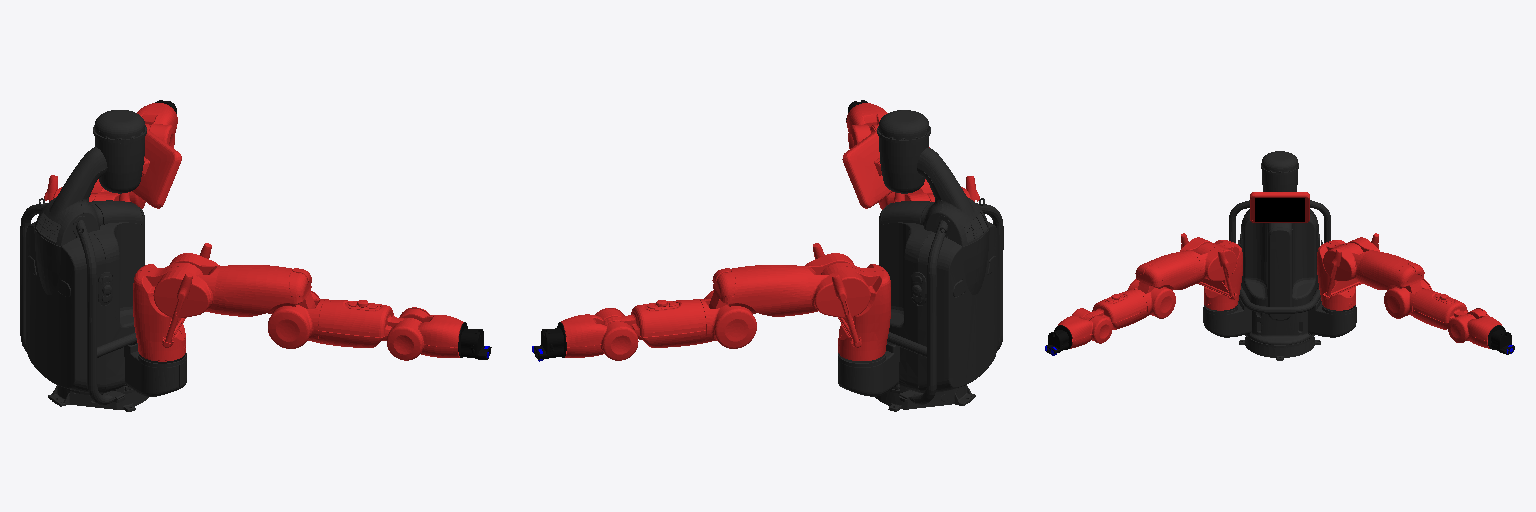
--- Render facts (derived) ---
The picture shows the robot from 3 angles, left to right: view 1: azimuth 30°, elevation 25°; view 2: azimuth 150°, elevation 25°; view 3: azimuth 270°, elevation 25°; orthographic projection.
Model baxter with 54 links and 53 joints (17 revolute, 36 fixed), rooted at base, posed all joints at 0.
Visible links, largest first — view 1: torso, right_upper_elbow, right_upper_shoulder, right_upper_forearm, right_lower_forearm, right_lower_shoulder, screen, right_lower_elbow, left_lower_forearm, right_wrist, head; view 2: torso, left_upper_elbow, left_upper_shoulder, left_upper_forearm, left_lower_forearm, left_lower_shoulder, screen, left_lower_elbow, right_lower_forearm, left_wrist, head; view 3: torso, left_upper_elbow, right_upper_elbow, right_upper_shoulder, left_upper_shoulder, right_upper_forearm, left_upper_forearm, left_lower_forearm, right_lower_forearm, display, left_lower_shoulder, right_lower_shoulder (+5 smaller).
Link boxes in pixels (box(x1,y1,x2,y2)): torso: box(20, 110, 186, 411); right_upper_elbow: box(214, 265, 315, 316); right_upper_shoulder: box(133, 243, 211, 361); right_upper_forearm: box(318, 299, 421, 347); right_lower_forearm: box(387, 307, 463, 360); right_lower_shoulder: box(153, 253, 221, 317); screen: box(132, 129, 181, 208); right_lower_elbow: box(268, 291, 325, 348); left_lower_forearm: box(137, 103, 177, 147); right_wrist: box(458, 322, 491, 359); head: box(99, 166, 142, 193); torso: box(838, 110, 1003, 411); left_upper_elbow: box(709, 265, 809, 316); left_upper_shoulder: box(813, 243, 890, 360); left_upper_forearm: box(601, 299, 705, 347); left_lower_forearm: box(561, 308, 638, 360); left_lower_shoulder: box(803, 253, 870, 317); screen: box(842, 130, 892, 208); left_lower_elbow: box(699, 290, 756, 348); right_lower_forearm: box(846, 103, 887, 148); left_wrist: box(534, 322, 566, 359); head: box(881, 166, 924, 193); torso: box(1203, 151, 1356, 360); left_upper_elbow: box(1357, 251, 1424, 293); right_upper_elbow: box(1135, 251, 1202, 293); right_upper_shoulder: box(1181, 233, 1242, 310); left_upper_shoulder: box(1317, 233, 1378, 310); right_upper_forearm: box(1083, 289, 1146, 329); left_upper_forearm: box(1413, 289, 1475, 329); left_lower_forearm: box(1448, 308, 1501, 348); right_lower_forearm: box(1058, 308, 1112, 348); display: box(1255, 198, 1304, 221); left_lower_shoulder: box(1323, 237, 1379, 281); right_lower_shoulder: box(1180, 237, 1236, 281).
Bounding box of the posed robot: 1.06 × 2.07 × 0.9368 m (x, y, z).
17 mesh visuals loaded from 15 distinct referenced files (10 binary STL); not drawn: 7 (reference not matched to a file when rendering).

robot.urdf — baxter:
<?xml version="1.0" encoding="utf-8"?>
<!-- =================================================================================== -->
<!-- |    This document was autogenerated by xacro from [local-path]/projects/mpi_system_baxter/workspace/src/catkin/robots/baxter_robot_model/models/baxter_kinect.urdf.xacro | -->
<!-- |    EDITING THIS FILE BY HAND IS NOT RECOMMENDED                                 | -->
<!-- =================================================================================== -->
<robot name="baxter">
  <link name="base">
  </link>
  <link name="torso">
    <visual>
      <origin rpy="0 0 0" xyz="0 0 0"/>
      <geometry>
        <mesh filename="package://baxter_robot_model/meshes/torso/base_link-simple.STL"/>
      </geometry>
      <material name="darkgray">
        <color rgba=".2 .2 .2 1"/>
      </material>
    </visual>
    <collision>
      <origin rpy="0 0 0" xyz="0 0 0"/>
      <geometry>
        <mesh filename="package://baxter_robot_model/meshes/torso/base_link_collision-simple.STL"/>
      </geometry>
    </collision>
    <inertial>
      <origin rpy="0 0 0" xyz="0.000000 0.000000 0.000000"/>
      <mass value="35.336455"/>
      <inertia ixx="1.849155" ixy="-0.000354" ixz="-0.154188" iyy="1.662671" iyz="0.003292" izz="0.802239"/>
    </inertial>
  </link>
  <link name="left_torso_itb">
    <inertial>
      <origin rpy="0 0 0" xyz="0.000000 0.000000 0.000000"/>
      <mass value="0.0001"/>
      <inertia ixx="1e-08" ixy="0" ixz="0" iyy="1e-08" iyz="0" izz="1e-08"/>
    </inertial>
  </link>
  <link name="right_torso_itb">
    <inertial>
      <origin rpy="0 0 0" xyz="0.000000 0.000000 0.000000"/>
      <mass value="0.0001"/>
      <inertia ixx="1e-08" ixy="0" ixz="0" iyy="1e-08" iyz="0" izz="1e-08"/>
    </inertial>
  </link>
  <link name="head">
    <visual>
      <origin rpy="0 0 0" xyz="0 0 .00953"/>
      <geometry>
        <mesh filename="package://baxter_robot_model/meshes/head/H0-simple.STL"/>
      </geometry>
      <material name="darkgray">
        <color rgba=".2 .2 .2 1"/>
      </material>
    </visual>
    <collision>
      <origin rpy="0 0 0" xyz="0.0 0 0.0"/>
      <geometry>
        <sphere radius="0.001"/>
      </geometry>
    </collision>
    <inertial>
      <origin rpy="0 0 0" xyz="0 0 0"/>
      <mass value="0.547767"/>
      <inertia ixx="0.004641" ixy="0.000159" ixz="0.000242" iyy="0.003295" iyz="-0.001324" izz="0.003415"/>
    </inertial>
  </link>
  <link name="sonar_ring">
    <visual>
      <origin rpy="0 0 0" xyz="-.0347 0 .00953"/>
      <geometry>
        <cylinder length="0.01" radius="0.085"/>
      </geometry>
      <material name="darkgray">
        <color rgba=".2 .2 .2 1"/>
      </material>
    </visual>
    <collision>
      <origin rpy="0 0 0" xyz="0.0 0 0.0"/>
      <geometry>
        <sphere radius="0.001"/>
      </geometry>
    </collision>
    <inertial>
      <origin rpy="0 0 0" xyz="0 0 0"/>
      <mass value="0.0001"/>
      <inertia ixx="1e-08" ixy="0" ixz="0" iyy="1e-08" iyz="0" izz="1e-08"/>
    </inertial>
  </link>
  <link name="screen">
    <visual>
      <origin rpy="0 -1.57079632679 0" xyz="0 -.00953 -.0347"/>
      <geometry>
        <mesh filename="package://baxter_robot_model/meshes/head/H1-simple.STL"/>
      </geometry>
      <material name="darkred">
        <color rgba="0.85 0.2 0.2 1.0"/>
      </material>
    </visual>
    <collision>
      <origin rpy="0 0 0" xyz="0.0 0 0.0"/>
      <geometry>
        <sphere radius="0.001"/>
      </geometry>
    </collision>
    <inertial>
      <origin rpy="0 0 0" xyz="0 0 0"/>
      <mass value="0.440171"/>
      <inertia ixx="0.004006" ixy="0.000230" ixz="0.000002" iyy="0.002800" iyz="0.000029" izz="0.001509"/>
    </inertial>
  </link>
  <link name="display">
    <visual>
      <origin rpy="0.2617993877991494 0 0" xyz="0 0 0"/>
      <geometry>
        <box size="0.218 0.16 0.001"/>
      </geometry>
      <material name="black">
        <color rgba="0 0 0 1"/>
      </material>
    </visual>
    <inertial>
      <origin rpy="0 0 0" xyz="0 0 0"/>
      <mass value="0.0001"/>
      <inertia ixx="1e-08" ixy="0" ixz="0" iyy="1e-08" iyz="0" izz="1e-08"/>
    </inertial>
  </link>
  <!-- ////////////////////////////////////////////////// -->
  <link name="camera_rgb_optical_frame">
    <!--   <visual>
      <origin rpy="0 0 0" xyz="0 0 0"/>
      <geometry>
        <mesh filename="model://asus_xtion_pro_camera/meshes/asus_xtion_pro_camera-simple.STL"/>
      </geometry>
      <material name="black">
        <color rgba="0 0 0 1"/>
      </material>
    </visual> -->
    <inertial>
      <origin rpy="0 0 0" xyz="0 0 0"/>
      <mass value="0.0001"/>
      <inertia ixx="1e-08" ixy="0" ixz="0" iyy="1e-08" iyz="0" izz="1e-08"/>
    </inertial>
  </link>
  <!-- <link name="gazebo_camera">
    <geometry>
      <mesh filename="package://baxter_description/asus_xtion_pro_camera/meshes/asus_xtion_pro_camera-simple.STL"/>
    </geometry>
    <material name="black">
      <color rgba="0 0 0 1"/>
    </material>
    <inertial>
      <origin rpy="0 0 0" xyz="0 0 0"/>
      <mass value="0.0001"/>
      <inertia ixx="1e-08" ixy="0" ixz="0" iyy="1e-08" iyz="0" izz="1e-08"/>
    </inertial>
  </link> -->
  <!-- ////////////////////////////////////////////////// -->
  <link name="head_camera">
    <inertial>
      <origin rpy="0 0 0" xyz="0 0 0"/>
      <mass value="0.0001"/>
      <inertia ixx="1e-08" ixy="0" ixz="0" iyy="1e-08" iyz="0" izz="1e-08"/>
    </inertial>
  </link>
  <link name="dummyhead1">
    <inertial>
      <origin rpy="0 0 0" xyz="0 0 0"/>
      <mass value="0.0001"/>
      <inertia ixx="1e-08" ixy="0" ixz="0" iyy="1e-08" iyz="0" izz="1e-08"/>
    </inertial>
  </link>
  <link name="collision_head_link_1">
    <visual>
      <origin rpy="0 0 0" xyz="0 0 0"/>
      <geometry>
        <sphere radius="0.001"/>
      </geometry>
      <material name="red">
        <color rgba="0.85 0.2 0.2 1.0"/>
      </material>
    </visual>
    <collision>
      <origin rpy="0 0 0.0" xyz="-0.07 -0.04 0.0"/>
      <geometry>
        <sphere radius="0.22"/>
      </geometry>
    </collision>
    <inertial>
      <origin rpy="0 0 0" xyz="0 0 0"/>
      <mass value="0.0001"/>
      <inertia ixx="1e-08" ixy="0" ixz="0" iyy="1e-08" iyz="0" izz="1e-08"/>
    </inertial>
  </link>
  <link name="collision_head_link_2">
    <visual>
      <origin rpy="0 0 0" xyz="0 0 0"/>
      <geometry>
        <sphere radius="0.001"/>
      </geometry>
      <material name="red">
        <color rgba="0.85 0.2 0.2 1.0"/>
      </material>
    </visual>
    <collision>
      <origin rpy="0 0 0" xyz="-0.07 0.04 0.00"/>
      <geometry>
        <sphere radius="0.22"/>
      </geometry>
    </collision>
    <inertial>
      <origin rpy="0 0 0" xyz="0 0 0"/>
      <mass value="0.0001"/>
      <inertia ixx="1e-08" ixy="0" ixz="0" iyy="1e-08" iyz="0" izz="1e-08"/>
    </inertial>
  </link>
  <joint name="collision_head_1" type="fixed">
    <origin rpy="0 0 0" xyz="0.11 0 0.75"/>
    <parent link="base"/>
    <child link="collision_head_link_1"/>
  </joint>
  <joint name="collision_head_2" type="fixed">
    <origin rpy="0 0 0" xyz="0.11 0 0.75"/>
    <parent link="base"/>
    <child link="collision_head_link_2"/>
  </joint>
  <joint name="dummy" type="fixed">
    <origin rpy="0 0 0" xyz="0 0 0"/>
    <parent link="head"/>
    <child link="dummyhead1"/>
  </joint>
  <joint name="torso_t0" type="revolute">
    <origin rpy="0 0 0" xyz="0 0 0"/>
    <parent link="base"/>
    <child link="torso"/>
    <limit effort="50000" lower="-1.3963" upper="1.3963" velocity="10000"/>
  </joint>
  <joint name="left_torso_itb_fixed" type="fixed">
    <origin rpy="-1.57079632679 3.1415 0" xyz="-0.08897 0.15593 0.389125"/>
    <parent link="torso"/>
    <child link="left_torso_itb"/>
  </joint>
  <joint name="right_torso_itb_fixed" type="fixed">
    <origin rpy="1.57079632679 0 0" xyz="-0.08897 -0.15593 0.389125"/>
    <parent link="torso"/>
    <child link="right_torso_itb"/>
  </joint>
  <joint name="head_pan" type="revolute">
    <origin rpy="0 0 0" xyz="0.06 0 0.686"/>
    <axis xyz="0 0 1"/>
    <parent link="torso"/>
    <child link="head"/>
    <limit effort="50000" lower="-1.3963" upper="1.3963" velocity="10000"/>
    <dynamics damping="0.7" friction="0.0"/>
  </joint>
  <joint name="head_nod" type="revolute">
    <origin rpy="1.75057 0 1.57079632679" xyz=".1227 0 0"/>
    <parent link="head"/>
    <child link="screen"/>
    <limit effort="50000" lower="-1.3963" upper="1.3963" velocity="10000"/>
  </joint>
  <joint name="head_camera" type="fixed">
    <origin rpy="1.75057 0 1.57079632679" xyz="0.12839 0 0.06368"/>
    <parent link="head"/>
    <child link="head_camera"/>
  </joint>
  <joint name="display_joint" type="fixed">
    <origin rpy="0 0 0" xyz="0.0 -0.016 0.0"/>
    <parent link="screen"/>
    <child link="display"/>
  </joint>
  <!-- /////////////////////////////////////////////////// -->
  <joint name="head_kinect" type="fixed">
    <origin rpy="-0.843 -0.075 3.075" xyz="0.073 0.075 0.014"/>
    <!-- rpy="-0.6 0 3.14159" xyz="0.08 0.00 0.02 -->
    <parent link="screen"/>
    <child link="camera_rgb_optical_frame"/>
  </joint>
  <!-- gazebo camera position -->
  <!-- <joint name="camera_joint_for_gazebo" type="fixed"> -->
  <!-- <origin rpy="0 -1.45 -1.57" xyz="0.07 0.11 0.0"/>-->
  <!-- <parent link="screen"/> -->
  <!-- <child link="gazebo_camera"/> -->
  <!-- </joint> -->
  <!-- /////////////////////////////////////////////////// -->
  <joint name="sonar_s0" type="fixed">
    <origin rpy="0 0 0" xyz="0.0947 0 .817"/>
    <axis xyz="0 0 1"/>
    <parent link="torso"/>
    <child link="sonar_ring"/>
  </joint>
  <link name="right_arm_mount">
    <!-- all defaults -->
    <inertial>
      <origin rpy="0 0 0" xyz="0 0 0"/>
      <mass value="0.0001"/>
      <inertia ixx="1e-08" ixy="0" ixz="0" iyy="1e-08" iyz="0" izz="1e-08"/>
    </inertial>
  </link>
  <link name="right_upper_shoulder">
    <visual>
      <origin rpy="0 0 0" xyz="0 0 0"/>
      <geometry>
        <mesh filename="package://baxter_robot_model/meshes/upper_shoulder/S0-simple.STL"/>
      </geometry>
      <material name="darkred">
        <color rgba="0.85 0.2 0.2 1.0"/>
      </material>
    </visual>
    <collision>
      <origin rpy="0 0 0" xyz="0 0 0.1361"/>
      <geometry>
        <cylinder length="0.2722" radius="0.06"/>
      </geometry>
    </collision>
    <inertial>
      <origin rpy="0 0 0" xyz="0.01783 0.00086 0.19127"/>
      <mass value="5.70044"/>
      <inertia ixx="0.04709102262" ixy="0.00012787556" ixz="0.00614870039" iyy="0.03766976455" iyz="0.00078086899" izz="0.03595988478"/>
    </inertial>
  </link>
  <link name="right_lower_shoulder">
    <visual>
      <origin rpy="0 0 0" xyz="0 0 0"/>
      <geometry>
        <mesh filename="package://baxter_robot_model/meshes/lower_shoulder/S1-simple.STL"/>
      </geometry>
      <material name="darkred">
        <color rgba="0.85 0.2 0.2 1.0"/>
      </material>
    </visual>
    <collision>
      <origin rpy="0 0 0" xyz="0 0 0"/>
      <geometry>
        <cylinder length="0.12" radius="0.06"/>
      </geometry>
    </collision>
    <inertial>
      <origin rpy="0 0 0" xyz="0.06845 0.00269 -0.00529"/>
      <mass value="3.22698"/>
      <inertia ixx="0.01175209419" ixy="-0.00030096398" ixz="0.00207675762" iyy="0.0278859752" iyz="-0.00018821993" izz="0.02078749298"/>
    </inertial>
  </link>
  <link name="right_upper_elbow">
    <visual>
      <origin rpy="0 0 0" xyz="0 0 0"/>
      <geometry>
        <mesh filename="package://baxter_robot_model/meshes/upper_elbow/E0-simple.STL"/>
      </geometry>
      <material name="darkred">
        <color rgba="0.85 0.2 0.2 1.0"/>
      </material>
    </visual>
    <collision>
      <origin rpy="0 0 0" xyz="0 0 -0.0535"/>
      <geometry>
        <cylinder length="0.107" radius="0.06"/>
      </geometry>
    </collision>
    <inertial>
      <origin rpy="0 0 0" xyz="-0.00276 0.00132 0.18086"/>
      <mass value="4.31272"/>
      <inertia ixx="0.02661733557" ixy="0.00029270634" ixz="0.00392189887" iyy="0.02844355207" iyz="0.0010838933" izz="0.01248008322"/>
    </inertial>
  </link>
  <link name="right_upper_elbow_visual">
    <collision>
      <origin rpy="0 0 0" xyz="0 0 0.1365"/>
      <geometry>
        <cylinder length="0.273" radius="0.06"/>
      </geometry>
    </collision>
    <inertial>
      <origin rpy="0 0 0" xyz="0 0 0"/>
      <mass value="0.0001"/>
      <inertia ixx="1e-08" ixy="0" ixz="0" iyy="1e-08" iyz="0" izz="1e-08"/>
    </inertial>
  </link>
  <link name="right_lower_elbow">
    <visual>
      <origin rpy="0 0 0" xyz="0 0 0"/>
      <geometry>
        <mesh filename="package://baxter_robot_model/meshes/lower_elbow/E1-simple.STL"/>
      </geometry>
      <material name="darkred">
        <color rgba="0.85 0.2 0.2 1.0"/>
      </material>
    </visual>
    <collision>
      <origin rpy="0 0 0" xyz="0.0 0.0 0.0"/>
      <geometry>
        <cylinder length="0.10" radius="0.06"/>
      </geometry>
    </collision>
    <inertial>
      <origin rpy="0 0 0" xyz="0.02611 0.00159 -0.01117"/>
      <mass value="2.07206"/>
      <inertia ixx="0.00711582686" ixy="0.00036036173" ixz="0.0007459496" iyy="0.01318227876" iyz="-0.00019663418" izz="0.00926852064"/>
    </inertial>
  </link>
  <link name="right_upper_forearm">
    <visual>
      <origin rpy="0 0 0" xyz="0 0 0"/>
      <geometry>
        <mesh filename="package://baxter_robot_model/meshes/upper_forearm/W0-simple.STL"/>
      </geometry>
      <material name="darkred">
        <color rgba="0.85 0.2 0.2 1.0"/>
      </material>
    </visual>
    <collision>
      <origin rpy="0 0 0" xyz="0 0 -0.044"/>
      <geometry>
        <cylinder length="0.088" radius="0.06"/>
      </geometry>
    </collision>
    <inertial>
      <origin rpy="0 0 0" xyz="-0.00168 0.0046 0.13952"/>
      <mass value="2.24665"/>
      <inertia ixx="0.01667742825" ixy="0.00018403705" ixz="0.00018657629" iyy="0.01675457264" iyz="-0.00064732352" izz="0.0037463115"/>
    </inertial>
  </link>
  <link name="right_upper_forearm_visual">
    <collision>
      <origin rpy="0 0 0" xyz="0 0 0.136"/>
      <geometry>
        <cylinder length="0.272" radius="0.06"/>
      </geometry>
    </collision>
    <inertial>
      <origin rpy="0 0 0" xyz="0 0 0"/>
      <mass value="0.0001"/>
      <inertia ixx="1e-08" ixy="0" ixz="0" iyy="1e-08" iyz="0" izz="1e-08"/>
    </inertial>
  </link>
  <link name="right_arm_itb">
    <inertial>
      <origin rpy="0 0 0" xyz="0.000000 0.000000 0.000000"/>
      <mass value="0.0001"/>
      <inertia ixx="1e-08" ixy="0" ixz="0" iyy="1e-08" iyz="0" izz="1e-08"/>
    </inertial>
  </link>
  <link name="right_lower_forearm">
    <visual>
      <origin rpy="0 0 0" xyz="0 0 0"/>
      <geometry>
        <mesh filename="package://baxter_robot_model/meshes/lower_forearm/W1-simple.STL"/>
      </geometry>
      <material name="darkred">
        <color rgba="0.85 0.2 0.2 1.0"/>
      </material>
    </visual>
    <collision>
      <origin rpy="0 0 0" xyz="0 0 0"/>
      <geometry>
        <cylinder length="0.10" radius="0.06"/>
      </geometry>
    </collision>
    <inertial>
      <origin rpy="0 0 0" xyz="0.06041 0.00697 0.006"/>
      <mass value="1.60979"/>
      <inertia ixx="0.00387607152" ixy="-0.00044384784" ixz="-0.00021115038" iyy="0.00700537914" iyz="0.00015348067" izz="0.0055275524"/>
    </inertial>
  </link>
  <link name="right_wrist">
    <visual>
      <origin rpy="0 0 0" xyz="0 0 0"/>
      <geometry>
        <mesh filename="package://baxter_robot_model/meshes/wrist/W2-simple.STL"/>
      </geometry>
      <material name="lightgrey">
        <color rgba=".1 .1 .1 1"/>
      </material>
    </visual>
    <collision>
      <origin rpy="0 0 0" xyz="0 0 0"/>
      <geometry>
        <cylinder length="0.165" radius="0.06"/>
      </geometry>
    </collision>
    <inertial>
      <origin rpy="0 0 0" xyz="0.00198 0.00125 0.01855"/>
      <mass value="0.35093"/>
      <inertia ixx="0.00025289155" ixy="0.00000575311" ixz="-0.00000159345" iyy="0.0002688601" iyz="-0.00000519818" izz="0.0003074118"/>
    </inertial>
  </link>
  <link name="right_hand">
    <collision>
      <origin rpy="0 0 0" xyz="0 0 -0.0232"/>
      <geometry>
        <cylinder length="0.0464" radius="0.04"/>
      </geometry>
    </collision>
    <inertial>
      <origin rpy="0 0 0" xyz="0.01093 0.00042 -0.01532"/>
      <mass value="0.19125"/>
      <inertia ixx="0.00017588" ixy="0.00000147073" ixz="0.0000243633" iyy="0.00021166377" iyz="0.00000172689" izz="0.00023745397"/>
    </inertial>
  </link>
  <link name="right_hand_camera">
    <visual>
      <origin rpy="0 0 0" xyz="0 0 0"/>
      <geometry>
        <cylinder length="0.01" radius="0.02"/>
      </geometry>
      <material name="blue">
        <color rgba="0 0 1 0.8"/>
      </material>
    </visual>
    <inertial>
      <origin rpy="0 0 0" xyz="0 0 0"/>
      <mass value="0.0001"/>
      <inertia ixx="1e-08" ixy="0" ixz="0" iyy="1e-08" iyz="0" izz="1e-08"/>
    </inertial>
  </link>
  <link name="right_hand_camera_axis">
    <inertial>
      <origin rpy="0 0 0" xyz="0 0 0"/>
      <mass value="0.0001"/>
      <inertia ixx="1e-08" ixy="0" ixz="0" iyy="1e-08" iyz="0" izz="1e-08"/>
    </inertial>
  </link>
  <link name="right_hand_range">
    <visual>
      <origin rpy="0 0 0" xyz="0 0 0"/>
      <geometry>
        <box size="0.005 .02 .005"/>
      </geometry>
      <material name="blue">
        <color rgba="0 0 1 0.8"/>
      </material>
    </visual>
    <inertial>
      <origin rpy="0 0 0" xyz="0 0 0"/>
      <mass value="0.0001"/>
      <inertia ixx="1e-08" ixy="0" ixz="0" iyy="1e-08" iyz="0" izz="1e-08"/>
    </inertial>
  </link>
  <link name="right_hand_accelerometer">
    <visual>
      <origin rpy="0 0 0" xyz="0 0 0"/>
      <geometry>
        <box size="0.01 0.01 0.01"/>
      </geometry>
      <material name="black">
        <color rgba="0 0 0 1"/>
      </material>
    </visual>
    <inertial>
      <origin rpy="0 0 0" xyz="0.000000 0.000000 0.000000"/>
      <mass value="0.0001"/>
      <inertia ixx="1e-08" ixy="0" ixz="0" iyy="1e-08" iyz="0" izz="1e-08"/>
    </inertial>
  </link>
  <joint name="right_torso_arm_mount" type="fixed">
    <origin rpy="0 0 -0.7854" xyz="0.024645 -0.219645 0.118588"/>
    <parent link="torso"/>
    <child link="right_arm_mount"/>
  </joint>
  <joint name="right_s0" type="revolute">
    <origin rpy="0 0 0" xyz="0.055695 0 0.011038"/>
    <axis xyz="0 0 1"/>
    <parent link="right_arm_mount"/>
    <child link="right_upper_shoulder"/>
    <limit effort="50.0" lower="-1.70167993878" upper="1.70167993878" velocity="1.5"/>
    <dynamics damping="0.7" friction="0.0"/>
  </joint>
  <joint name="right_s1" type="revolute">
    <origin rpy="-1.57079632679 0 0" xyz="0.069 0 0.27035"/>
    <axis xyz="0 0 1"/>
    <parent link="right_upper_shoulder"/>
    <child link="right_lower_shoulder"/>
    <limit effort="50.0" lower="-2.147" upper="1.047" velocity="1.5"/>
    <dynamics damping="0.7" friction="0.0"/>
  </joint>
  <joint name="right_e0" type="revolute">
    <origin rpy="1.57079632679 0 1.57079632679" xyz="0.102 0 0"/>
    <axis xyz="0 0 1"/>
    <parent link="right_lower_shoulder"/>
    <child link="right_upper_elbow"/>
    <limit effort="50.0" lower="-3.05417993878" upper="3.05417993878" velocity="1.5"/>
    <dynamics damping="0.7" friction="0.0"/>
  </joint>
  <joint name="right_e0_fixed" type="fixed">
    <origin rpy="1.57079632679 0 1.57079632679" xyz="0.107 0 0"/>
    <axis xyz="0 0 1"/>
    <parent link="right_lower_shoulder"/>
    <child link="right_upper_elbow_visual"/>
  </joint>
  <joint name="right_e1" type="revolute">
    <origin rpy="-1.57079632679 -1.57079632679 0" xyz="0.069 0 0.26242"/>
    <axis xyz="0 0 1"/>
    <parent link="right_upper_elbow"/>
    <child link="right_lower_elbow"/>
    <limit effort="50.0" lower="-0.05" upper="2.618" velocity="1.5"/>
    <dynamics damping="0.7" friction="0.0"/>
  </joint>
  <joint name="right_w0" type="revolute">
    <origin rpy="1.57079632679 0 1.57079632679" xyz="0.10359 0 0"/>
    <axis xyz="0 0 1"/>
    <parent link="right_lower_elbow"/>
    <child link="right_upper_forearm"/>
    <limit effort="15.0" lower="-3.059" upper="3.059" velocity="4.0"/>
    <dynamics damping="0.7" friction="0.0"/>
  </joint>
  <joint name="right_w0_fixed" type="fixed">
    <origin rpy="1.57079632679 0 1.57079632679" xyz="0.088 0 0"/>
    <axis xyz="0 0 1"/>
    <parent link="right_lower_elbow"/>
    <child link="right_upper_forearm_visual"/>
  </joint>
  <joint name="right_w0_to_itb_fixed" type="fixed">
    <origin rpy="-1.57079632679 0 1.57079632679" xyz="-0.0565 0 0.12"/>
    <axis xyz="0 0 1"/>
    <parent link="right_upper_forearm"/>
    <child link="right_arm_itb"/>
  </joint>
  <joint name="right_w1" type="revolute">
    <origin rpy="-1.57079632679 -1.57079632679 0" xyz="0.01 0 0.2707"/>
    <axis xyz="0 0 1"/>
    <parent link="right_upper_forearm"/>
    <child link="right_lower_forearm"/>
    <limit effort="15.0" lower="-1.57079632679" upper="2.094" velocity="4.0"/>
    <dynamics damping="0.7" friction="0.0"/>
  </joint>
  <joint name="right_w2" type="revolute">
    <origin rpy="1.57079632679 0 1.57079632679" xyz="0.115975 0 0"/>
    <axis xyz="0 0 1"/>
    <parent link="right_lower_forearm"/>
    <child link="right_wrist"/>
    <limit effort="15.0" lower="-3.059" upper="3.059" velocity="4.0"/>
    <dynamics damping="0.7" friction="0.0"/>
  </joint>
  <joint name="right_hand" type="fixed">
    <origin rpy="0 0 0" xyz="0 0 0.11355"/>
    <axis xyz="0 0 1"/>
    <parent link="right_wrist"/>
    <child link="right_hand"/>
  </joint>
  <joint name="right_hand_camera" type="fixed">
    <origin rpy="0 0 -1.57079633" xyz="0.03825 0.012 0.015355"/>
    <parent link="right_hand"/>
    <child link="right_hand_camera"/>
  </joint>
  <joint name="right_hand_camera_axis" type="fixed">
    <origin rpy="0 0 0" xyz="0.03825 0.012 0.015355"/>
    <parent link="right_hand"/>
    <child link="right_hand_camera_axis"/>
  </joint>
  <joint name="right_hand_range" type="fixed">
    <origin rpy="0 -1.57079632679 -1.57079632679" xyz="0.032 -0.020245 0.0288"/>
    <parent link="right_hand"/>
    <child link="right_hand_range"/>
  </joint>
  <joint name="right_hand_accelerometer" type="fixed">
    <origin rpy="0 0 0" xyz="0.00198 0.000133 -0.0146"/>
    <parent link="right_hand"/>
    <child link="right_hand_accelerometer"/>
  </joint>
  <link name="left_arm_mount">
    <!-- all defaults -->
    <inertial>
      <origin rpy="0 0 0" xyz="0 0 0"/>
      <mass value="0.0001"/>
      <inertia ixx="1e-08" ixy="0" ixz="0" iyy="1e-08" iyz="0" izz="1e-08"/>
    </inertial>
  </link>
  <link name="left_upper_shoulder">
    <visual>
      <origin rpy="0 0 0" xyz="0 0 0"/>
      <geometry>
        <mesh filename="package://baxter_robot_model/meshes/upper_shoulder/S0-simple.STL"/>
      </geometry>
      <material name="darkred">
        <color rgba="0.85 0.2 0.2 1.0"/>
      </material>
    </visual>
    <collision>
      <origin rpy="0 0 0" xyz="0 0 0.1361"/>
      <geometry>
        <cylinder length="0.2722" radius="0.06"/>
      </geometry>
    </collision>
    <inertial>
      <origin rpy="0 0 0" xyz="0.01783 0.00086 0.19127"/>
      <mass value="5.70044"/>
      <inertia ixx="0.04709102262" ixy="0.00012787556" ixz="0.00614870039" iyy="0.03766976455" iyz="0.00078086899" izz="0.03595988478"/>
    </inertial>
  </link>
  <link name="left_lower_shoulder">
    <visual>
      <origin rpy="0 0 0" xyz="0 0 0"/>
      <geometry>
        <mesh filename="package://baxter_robot_model/meshes/lower_shoulder/S1-simple.STL"/>
      </geometry>
      <material name="darkred">
        <color rgba="0.85 0.2 0.2 1.0"/>
      </material>
    </visual>
    <collision>
      <origin rpy="0 0 0" xyz="0 0 0"/>
      <geometry>
        <cylinder length="0.12" radius="0.06"/>
      </geometry>
    </collision>
    <inertial>
      <origin rpy="0 0 0" xyz="0.06845 0.00269 -0.00529"/>
      <mass value="3.22698"/>
      <inertia ixx="0.01175209419" ixy="-0.00030096398" ixz="0.00207675762" iyy="0.0278859752" iyz="-0.00018821993" izz="0.02078749298"/>
    </inertial>
  </link>
  <link name="left_upper_elbow">
    <visual>
      <origin rpy="0 0 0" xyz="0 0 0"/>
      <geometry>
        <mesh filename="package://baxter_robot_model/meshes/upper_elbow/E0-simple.STL"/>
      </geometry>
      <material name="darkred">
        <color rgba="0.85 0.2 0.2 1.0"/>
      </material>
    </visual>
    <collision>
      <origin rpy="0 0 0" xyz="0 0 -0.0535"/>
      <geometry>
        <cylinder length="0.107" radius="0.06"/>
      </geometry>
    </collision>
    <inertial>
      <origin rpy="0 0 0" xyz="-0.00276 0.00132 0.18086"/>
      <mass value="4.31272"/>
      <inertia ixx="0.02661733557" ixy="0.00029270634" ixz="0.00392189887" iyy="0.02844355207" iyz="0.0010838933" izz="0.01248008322"/>
    </inertial>
  </link>
  <link name="left_upper_elbow_visual">
    <collision>
      <origin rpy="0 0 0" xyz="0 0 0.1365"/>
      <geometry>
        <cylinder length="0.273" radius="0.06"/>
      </geometry>
    </collision>
    <inertial>
      <origin rpy="0 0 0" xyz="0 0 0"/>
      <mass value="0.0001"/>
      <inertia ixx="1e-08" ixy="0" ixz="0" iyy="1e-08" iyz="0" izz="1e-08"/>
    </inertial>
  </link>
  <link name="left_lower_elbow">
    <visual>
      <origin rpy="0 0 0" xyz="0 0 0"/>
      <geometry>
        <mesh filename="package://baxter_robot_model/meshes/lower_elbow/E1-simple.STL"/>
      </geometry>
      <material name="darkred">
        <color rgba="0.85 0.2 0.2 1.0"/>
      </material>
    </visual>
    <collision>
      <origin rpy="0 0 0" xyz="0.0 0.0 0.0"/>
      <geometry>
        <cylinder length="0.10" radius="0.06"/>
      </geometry>
    </collision>
    <inertial>
      <origin rpy="0 0 0" xyz="0.02611 0.00159 -0.01117"/>
      <mass value="2.07206"/>
      <inertia ixx="0.00711582686" ixy="0.00036036173" ixz="0.0007459496" iyy="0.01318227876" iyz="-0.00019663418" izz="0.00926852064"/>
    </inertial>
  </link>
  <link name="left_upper_forearm">
    <visual>
      <origin rpy="0 0 0" xyz="0 0 0"/>
      <geometry>
        <mesh filename="package://baxter_robot_model/meshes/upper_forearm/W0-simple.STL"/>
      </geometry>
      <material name="darkred">
        <color rgba="0.85 0.2 0.2 1.0"/>
      </material>
    </visual>
    <collision>
      <origin rpy="0 0 0" xyz="0 0 -0.044"/>
      <geometry>
        <cylinder length="0.088" radius="0.06"/>
      </geometry>
    </collision>
    <inertial>
      <origin rpy="0 0 0" xyz="-0.00168 0.0046 0.13952"/>
      <mass value="2.24665"/>
      <inertia ixx="0.01667742825" ixy="0.00018403705" ixz="0.00018657629" iyy="0.01675457264" iyz="-0.00064732352" izz="0.0037463115"/>
    </inertial>
  </link>
  <link name="left_upper_forearm_visual">
    <collision>
      <origin rpy="0 0 0" xyz="0 0 0.136"/>
      <geometry>
        <cylinder length="0.272" radius="0.06"/>
      </geometry>
    </collision>
    <inertial>
      <origin rpy="0 0 0" xyz="0 0 0"/>
      <mass value="0.0001"/>
      <inertia ixx="1e-08" ixy="0" ixz="0" iyy="1e-08" iyz="0" izz="1e-08"/>
    </inertial>
  </link>
  <link name="left_arm_itb">
    <inertial>
      <origin rpy="0 0 0" xyz="0.000000 0.000000 0.000000"/>
      <mass value="0.0001"/>
      <inertia ixx="1e-08" ixy="0" ixz="0" iyy="1e-08" iyz="0" izz="1e-08"/>
    </inertial>
  </link>
  <link name="left_lower_forearm">
    <visual>
      <origin rpy="0 0 0" xyz="0 0 0"/>
      <geometry>
        <mesh filename="package://baxter_robot_model/meshes/lower_forearm/W1-simple.STL"/>
      </geometry>
      <material name="darkred">
        <color rgba="0.85 0.2 0.2 1.0"/>
      </material>
    </visual>
    <collision>
      <origin rpy="0 0 0" xyz="0 0 0"/>
      <geometry>
        <cylinder length="0.10" radius="0.06"/>
      </geometry>
    </collision>
    <inertial>
      <origin rpy="0 0 0" xyz="0.06041 0.00697 0.006"/>
      <mass value="1.60979"/>
      <inertia ixx="0.00387607152" ixy="-0.00044384784" ixz="-0.00021115038" iyy="0.00700537914" iyz="0.00015348067" izz="0.0055275524"/>
    </inertial>
  </link>
  <link name="left_wrist">
    <visual>
      <origin rpy="0 0 0" xyz="0 0 0"/>
      <geometry>
        <mesh filename="package://baxter_robot_model/meshes/wrist/W2-simple.STL"/>
      </geometry>
      <material name="lightgrey">
        <color rgba=".1 .1 .1 1"/>
      </material>
    </visual>
    <collision>
      <origin rpy="0 0 0" xyz="0 0 0"/>
      <geometry>
        <cylinder length="0.165" radius="0.06"/>
      </geometry>
    </collision>
    <inertial>
      <origin rpy="0 0 0" xyz="0.00198 0.00125 0.01855"/>
      <mass value="0.35093"/>
      <inertia ixx="0.00025289155" ixy="0.00000575311" ixz="-0.00000159345" iyy="0.0002688601" iyz="-0.00000519818" izz="0.0003074118"/>
    </inertial>
  </link>
  <link name="left_hand">
    <collision>
      <origin rpy="0 0 0" xyz="0 0 -0.0232"/>
      <geometry>
        <cylinder length="0.0464" radius="0.04"/>
      </geometry>
    </collision>
    <inertial>
      <origin rpy="0 0 0" xyz="0.01093 0.00042 -0.01532"/>
      <mass value="0.19125"/>
      <inertia ixx="0.00017588" ixy="0.00000147073" ixz="0.0000243633" iyy="0.00021166377" iyz="0.00000172689" izz="0.00023745397"/>
    </inertial>
  </link>
  <link name="left_hand_camera">
    <visual>
      <origin rpy="0 0 0" xyz="0 0 0"/>
      <geometry>
        <cylinder length="0.01" radius="0.02"/>
      </geometry>
      <material name="blue">
        <color rgba="0 0 1 0.8"/>
      </material>
    </visual>
    <inertial>
      <origin rpy="0 0 0" xyz="0 0 0"/>
      <mass value="0.0001"/>
      <inertia ixx="1e-08" ixy="0" ixz="0" iyy="1e-08" iyz="0" izz="1e-08"/>
    </inertial>
  </link>
  <link name="left_hand_camera_axis">
    <inertial>
      <origin rpy="0 0 0" xyz="0 0 0"/>
      <mass value="0.0001"/>
      <inertia ixx="1e-08" ixy="0" ixz="0" iyy="1e-08" iyz="0" izz="1e-08"/>
    </inertial>
  </link>
  <link name="left_hand_range">
    <visual>
      <origin rpy="0 0 0" xyz="0 0 0"/>
      <geometry>
        <box size="0.005 .02 .005"/>
      </geometry>
      <material name="blue">
        <color rgba="0 0 1 0.8"/>
      </material>
    </visual>
    <inertial>
      <origin rpy="0 0 0" xyz="0 0 0"/>
      <mass value="0.0001"/>
      <inertia ixx="1e-08" ixy="0" ixz="0" iyy="1e-08" iyz="0" izz="1e-08"/>
    </inertial>
  </link>
  <link name="left_hand_accelerometer">
    <visual>
      <origin rpy="0 0 0" xyz="0 0 0"/>
      <geometry>
        <box size="0.01 0.01 0.01"/>
      </geometry>
      <material name="black">
        <color rgba="0 0 0 1"/>
      </material>
    </visual>
    <inertial>
      <origin rpy="0 0 0" xyz="0.000000 0.000000 0.000000"/>
      <mass value="0.0001"/>
      <inertia ixx="1e-08" ixy="0" ixz="0" iyy="1e-08" iyz="0" izz="1e-08"/>
    </inertial>
  </link>
  <joint name="left_torso_arm_mount" type="fixed">
    <origin rpy="0 0 0.7854" xyz="0.024645 0.219645 0.118588"/>
    <parent link="torso"/>
    <child link="left_arm_mount"/>
  </joint>
  <joint name="left_s0" type="revolute">
    <origin rpy="0 0 0" xyz="0.055695 0 0.011038"/>
    <axis xyz="0 0 1"/>
    <parent link="left_arm_mount"/>
    <child link="left_upper_shoulder"/>
    <limit effort="50.0" lower="-1.70167993878" upper="1.70167993878" velocity="1.5"/>
    <dynamics damping="0.7" friction="0.0"/>
  </joint>
  <joint name="left_s1" type="revolute">
    <origin rpy="-1.57079632679 0 0" xyz="0.069 0 0.27035"/>
    <axis xyz="0 0 1"/>
    <parent link="left_upper_shoulder"/>
    <child link="left_lower_shoulder"/>
    <limit effort="50.0" lower="-2.147" upper="1.047" velocity="1.5"/>
    <dynamics damping="0.7" friction="0.0"/>
  </joint>
  <joint name="left_e0" type="revolute">
    <origin rpy="1.57079632679 0 1.57079632679" xyz="0.102 0 0"/>
    <axis xyz="0 0 1"/>
    <parent link="left_lower_shoulder"/>
    <child link="left_upper_elbow"/>
    <limit effort="50.0" lower="-3.05417993878" upper="3.05417993878" velocity="1.5"/>
    <dynamics damping="0.7" friction="0.0"/>
  </joint>
  <joint name="left_e0_fixed" type="fixed">
    <origin rpy="1.57079632679 0 1.57079632679" xyz="0.107 0 0"/>
    <axis xyz="0 0 1"/>
    <parent link="left_lower_shoulder"/>
    <child link="left_upper_elbow_visual"/>
  </joint>
  <joint name="left_e1" type="revolute">
    <origin rpy="-1.57079632679 -1.57079632679 0" xyz="0.069 0 0.26242"/>
    <axis xyz="0 0 1"/>
    <parent link="left_upper_elbow"/>
    <child link="left_lower_elbow"/>
    <limit effort="50.0" lower="-0.05" upper="2.618" velocity="1.5"/>
    <dynamics damping="0.7" friction="0.0"/>
  </joint>
  <joint name="left_w0" type="revolute">
    <origin rpy="1.57079632679 0 1.57079632679" xyz="0.10359 0 0"/>
    <axis xyz="0 0 1"/>
    <parent link="left_lower_elbow"/>
    <child link="left_upper_forearm"/>
    <limit effort="15.0" lower="-3.059" upper="3.059" velocity="4.0"/>
    <dynamics damping="0.7" friction="0.0"/>
  </joint>
  <joint name="left_w0_fixed" type="fixed">
    <origin rpy="1.57079632679 0 1.57079632679" xyz="0.088 0 0"/>
    <axis xyz="0 0 1"/>
    <parent link="left_lower_elbow"/>
    <child link="left_upper_forearm_visual"/>
  </joint>
  <joint name="left_w0_to_itb_fixed" type="fixed">
    <origin rpy="-1.57079632679 0 1.57079632679" xyz="-0.0565 0 0.12"/>
    <axis xyz="0 0 1"/>
    <parent link="left_upper_forearm"/>
    <child link="left_arm_itb"/>
  </joint>
  <joint name="left_w1" type="revolute">
    <origin rpy="-1.57079632679 -1.57079632679 0" xyz="0.01 0 0.2707"/>
    <axis xyz="0 0 1"/>
    <parent link="left_upper_forearm"/>
    <child link="left_lower_forearm"/>
    <limit effort="15.0" lower="-1.57079632679" upper="2.094" velocity="4.0"/>
    <dynamics damping="0.7" friction="0.0"/>
  </joint>
  <joint name="left_w2" type="revolute">
    <origin rpy="1.57079632679 0 1.57079632679" xyz="0.115975 0 0"/>
    <axis xyz="0 0 1"/>
    <parent link="left_lower_forearm"/>
    <child link="left_wrist"/>
    <limit effort="15.0" lower="-3.059" upper="3.059" velocity="4.0"/>
    <dynamics damping="0.7" friction="0.0"/>
  </joint>
  <joint name="left_hand" type="fixed">
    <origin rpy="0 0 0" xyz="0 0 0.11355"/>
    <axis xyz="0 0 1"/>
    <parent link="left_wrist"/>
    <child link="left_hand"/>
  </joint>
  <joint name="left_hand_camera" type="fixed">
    <origin rpy="0 0 -1.57079633" xyz="0.03825 0.012 0.015355"/>
    <parent link="left_hand"/>
    <child link="left_hand_camera"/>
  </joint>
  <joint name="left_hand_camera_axis" type="fixed">
    <origin rpy="0 0 0" xyz="0.03825 0.012 0.015355"/>
    <parent link="left_hand"/>
    <child link="left_hand_camera_axis"/>
  </joint>
  <joint name="left_hand_range" type="fixed">
    <origin rpy="0 -1.57079632679 -1.57079632679" xyz="0.032 -0.020245 0.0288"/>
    <parent link="left_hand"/>
    <child link="left_hand_range"/>
  </joint>
  <joint name="left_hand_accelerometer" type="fixed">
    <origin rpy="0 0 0" xyz="0.00198 0.000133 -0.0146"/>
    <parent link="left_hand"/>
    <child link="left_hand_accelerometer"/>
  </joint>
  <link name="pedestal">
    <visual>
      <origin rpy="0 0 0" xyz="0 0 0"/>
      <geometry>
        <mesh filename="package://baxter_description/meshes/base/PEDESTAL.DAE"/>
      </geometry>
      <material name="darkgray">
        <color rgba=".2 .2 .2 1"/>
      </material>
    </visual>
    <collision>
      <origin rpy="0 0 0" xyz="0 0 0"/>
      <geometry>
        <mesh filename="package://baxter_description/meshes/base/pedestal_link_collision.DAE"/>
      </geometry>
    </collision>
    <inertial>
      <origin rpy="0 0 0" xyz="0 0 0"/>
      <mass value="60.86397744"/>
      <inertia ixx="5.0635929" ixy="0.00103417" ixz="0.80199628" iyy="6.08689388" iyz="0.00105311" izz="4.96191932"/>
    </inertial>
  </link>
  <joint name="pedestal_fixed" type="fixed">
    <origin rpy="0 0 0" xyz="0.0 0.0 0.0"/>
    <parent link="torso"/>
    <child link="pedestal"/>
  </joint>
  <!-- Base of end effector -->
  <link name="left_gripper_base">
    <visual>
      <origin rpy="0 3.14159265359 3.14159265359" xyz="0 0 0"/>
      <geometry>
        <mesh filename="package://rethink_ee_description/meshes/pneumatic_gripper/pneumatic_gripper_w_cup.DAE"/>
      </geometry>
    </visual>
    <collision>
      <origin rpy="0 3.14159265359 3.14159265359" xyz="0.0 0.0 0.04"/>
      <geometry>
        <cylinder length="0.08" radius="0.02"/>
      </geometry>
      <material name="darkred">
        <color rgba=".5 .1 .1 1"/>
      </material>
    </collision>
    <inertial>
      <origin rpy="0 3.14159265359 3.14159265359" xyz="0.0 0.0 0.0"/>
      <mass value="0.3"/>
      <inertia ixx="2e-08" ixy="0" ixz="0" iyy="3e-08" iyz="0" izz="2e-08"/>
    </inertial>
  </link>
  <!-- Pneumatic Gripper Base Joint -->
  <joint name="left_gripper_base" type="fixed">
    <origin rpy="0 0 0" xyz="0 0 0.0"/>
    <parent link="left_hand"/>
    <child link="left_gripper_base"/>
  </joint>
  <!-- Pneumatic Gripper Tip joint -->
  <joint name="left_endpoint" type="fixed">
    <origin rpy="0 0 0" xyz="0 0 0.08"/>
    <parent link="left_gripper_base"/>
    <child link="left_gripper"/>
  </joint>
  <!-- Pneumatic Gripper Tip link -->
  <link name="left_gripper">
    <inertial>
      <origin rpy="0 0 0" xyz="0 0 0"/>
      <mass value="0.0001"/>
      <inertia ixx="0" ixy="0" ixz="0" iyy="0" iyz="0" izz="0.0"/>
    </inertial>
  </link>
  <!-- Base of end effector -->
  <link name="right_gripper_base">
    <visual>
      <origin rpy="-1.57079632679 3.14159265359 0" xyz="0 0 0"/>
      <geometry>
        <mesh filename="package://rethink_ee_description/meshes/electric_gripper/electric_gripper_base.DAE"/>
      </geometry>
    </visual>
    <collision>
      <origin rpy="-1.57079632679 3.14159265359 0" xyz="0.0 0.0 0"/>
      <geometry>
        <cylinder length="0.1" radius="0.029"/>
      </geometry>
      <material name="darkred">
        <color rgba=".5 .1 .1 1"/>
      </material>
    </collision>
    <inertial>
      <origin rpy="-1.57079632679 3.14159265359 0" xyz="0.0 0.0 0.0"/>
      <mass value="0.3"/>
      <inertia ixx="2e-08" ixy="0" ixz="0" iyy="3e-08" iyz="0" izz="2e-08"/>
    </inertial>
  </link>
  <link name="r_gripper_l_finger">
    <visual>
      <origin rpy="0 0 -3.14159265359" xyz="0 0 0"/>
      <geometry>
        <mesh filename="package://rethink_ee_description/meshes/electric_gripper/fingers/extended_narrow.DAE"/>
      </geometry>
    </visual>
    <collision>
      <origin rpy="0 0 -3.14159265359" xyz="0 0.01725 0.0615"/>
      <geometry>
        <box size="0.01 0.0135 0.1127"/>
      </geometry>
    </collision>
    <collision>
      <origin rpy="0 0 -3.14159265359" xyz="-0.005 -0.003 0.0083"/>
      <geometry>
        <box size="0.01 0.05 0.017"/>
      </geometry>
    </collision>
    <inertial>
      <origin rpy="0 0 -3.14159265359" xyz="0 0 0"/>
      <mass value="0.02"/>
      <inertia ixx="0.01" ixy="0" ixz="0" iyy="0.01" iyz="0" izz="0.01"/>
    </inertial>
  </link>
  <gazebo reference="r_gripper_l_finger">
    <mu1>1000</mu1>
    <mu2>1000</mu2>
    <fdir1>0.0 0.0 1.0</fdir1>
    <kp>1e5</kp>
    <kd>1.0</kd>
  </gazebo>
  <link name="r_gripper_l_finger_tip">
    <visual>
      <origin rpy="0 0 3.14159265359" xyz="0 0 0"/>
      <geometry>
        <mesh filename="package://rethink_ee_description/meshes/electric_gripper/fingers/half_round_tip.DAE"/>
      </geometry>
    </visual>
    <collision>
      <origin rpy="0 0 3.14159265359" xyz="0 -0.0045 -0.015"/>
      <geometry>
        <cylinder length="0.037" radius="0.008"/>
      </geometry>
    </collision>
    <inertial>
      <origin rpy="0 0 3.14159265359" xyz="0 0 0"/>
      <mass value="0.01"/>
      <inertia ixx="0.01" ixy="0" ixz="0" iyy="0.01" iyz="0" izz="0.01"/>
    </inertial>
  </link>
  <joint name="r_gripper_l_finger_tip_joint" type="fixed">
    <origin rpy="0 0 0" xyz="0.0 0.01725 0.1127"/>
    <parent link="r_gripper_l_finger"/>
    <child link="r_gripper_l_finger_tip"/>
  </joint>
  <link name="r_gripper_r_finger">
    <visual>
      <origin rpy="0 0 -0.0" xyz="0 0 0"/>
      <geometry>
        <mesh filename="package://rethink_ee_description/meshes/electric_gripper/fingers/extended_narrow.DAE"/>
      </geometry>
    </visual>
    <collision>
      <origin rpy="0 0 -0.0" xyz="0 -0.01725 0.0615"/>
      <geometry>
        <box size="0.01 0.0135 0.1127"/>
      </geometry>
    </collision>
    <collision>
      <origin rpy="0 0 -0.0" xyz="0.005 0.003 0.0083"/>
      <geometry>
        <box size="0.01 0.05 0.017"/>
      </geometry>
    </collision>
    <inertial>
      <origin rpy="0 0 -0.0" xyz="0 0 0"/>
      <mass value="0.02"/>
      <inertia ixx="0.01" ixy="0" ixz="0" iyy="0.01" iyz="0" izz="0.01"/>
    </inertial>
  </link>
  <gazebo reference="r_gripper_r_finger">
    <mu1>1000</mu1>
    <mu2>1000</mu2>
    <fdir1>0.0 0.0 1.0</fdir1>
    <kp>1e5</kp>
    <kd>1.0</kd>
  </gazebo>
  <link name="r_gripper_r_finger_tip">
    <visual>
      <origin rpy="0 0 0.0" xyz="0 0 0"/>
      <geometry>
        <mesh filename="package://rethink_ee_description/meshes/electric_gripper/fingers/half_round_tip.DAE"/>
      </geometry>
    </visual>
    <collision>
      <origin rpy="0 0 0.0" xyz="0 0.0045 -0.015"/>
      <geometry>
        <cylinder length="0.037" radius="0.008"/>
      </geometry>
    </collision>
    <inertial>
      <origin rpy="0 0 0.0" xyz="0 0 0"/>
      <mass value="0.01"/>
      <inertia ixx="0.01" ixy="0" ixz="0" iyy="0.01" iyz="0" izz="0.01"/>
    </inertial>
  </link>
  <joint name="r_gripper_r_finger_tip_joint" type="fixed">
    <origin rpy="0 0 0" xyz="0.0 -0.01725 0.1127"/>
    <parent link="r_gripper_r_finger"/>
    <child link="r_gripper_r_finger_tip"/>
  </joint>
  <!-- Electric Gripper Base Joint -->
  <joint name="right_gripper_base" type="fixed">
    <origin rpy="0 0 0" xyz="0 0 0.025"/>
    <parent link="right_hand"/>
    <child link="right_gripper_base"/>
  </joint>
  <!-- Electric Gripper Tip joint -->
  <joint name="right_endpoint" type="fixed">
    <origin rpy="0 0 0" xyz="0 0 0.1327"/>
    <parent link="right_gripper_base"/>
    <child link="right_gripper"/>
  </joint>
  <!-- Electric Gripper Tip link -->
  <link name="right_gripper">
    <inertial>
      <origin rpy="0 0 0" xyz="0 0 0"/>
      <mass value="0.0001"/>
      <inertia ixx="0" ixy="0" ixz="0" iyy="0" iyz="0" izz="0.0"/>
    </inertial>
  </link>
  <joint name="r_gripper_l_finger_joint" type="fixed">
    <origin rpy="0 0 0" xyz="0.0 0.03 0.02"/>
    <axis xyz="0 1 0"/>
    <parent link="right_gripper_base"/>
    <child link="r_gripper_l_finger"/>
    <limit effort="20.0" lower="0.0" upper="0.020833" velocity="5.0"/>
    <dynamics damping="0.7" friction="0.0"/>
  </joint>
  <joint name="r_gripper_r_finger_joint" type="fixed">
    <origin rpy="0 0 0" xyz="0.0 -0.03 0.02"/>
    <axis xyz="0 1 0"/>
    <parent link="right_gripper_base"/>
    <child link="r_gripper_r_finger"/>
    <limit effort="20.0" lower="-0.020833" upper="0.0" velocity="5.0"/>
    <mimic joint="r_gripper_l_finger_joint" multiplier="-1.0"/>
    <dynamics damping="0.7" friction="0.0"/>
  </joint>
  <transmission name="gripper_right1">
    <type>transmission_interface/SimpleTransmission</type>
    <joint name="r_gripper_r_finger_joint">
      <hardwareInterface>EffortJointInterface</hardwareInterface>
    </joint>
    <actuator name="gripper_r1_motor1">
      <hardwareInterface>EffortJointInterface</hardwareInterface>
      <mechanicalReduction>1</mechanicalReduction>
    </actuator>
  </transmission>
  <transmission name="gripper_right2">
    <type>transmission_interface/SimpleTransmission</type>
    <joint name="r_gripper_l_finger_joint">
      <hardwareInterface>EffortJointInterface</hardwareInterface>
    </joint>
    <actuator name="gripper_r1_motor2">
      <hardwareInterface>EffortJointInterface</hardwareInterface>
      <mechanicalReduction>1</mechanicalReduction>
    </actuator>
  </transmission>
  <gazebo reference="r_gripper_r_finger_joint">
    <implicitSpringDamper>1</implicitSpringDamper>
  </gazebo>
  <gazebo reference="r_gripper_l_finger_joint">
    <implicitSpringDamper>1</implicitSpringDamper>
  </gazebo>
</robot>
